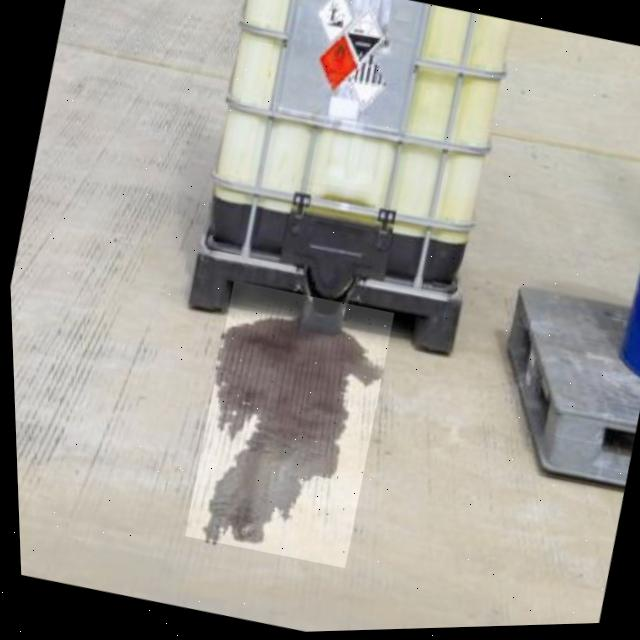spillage: (202, 304, 379, 546)
